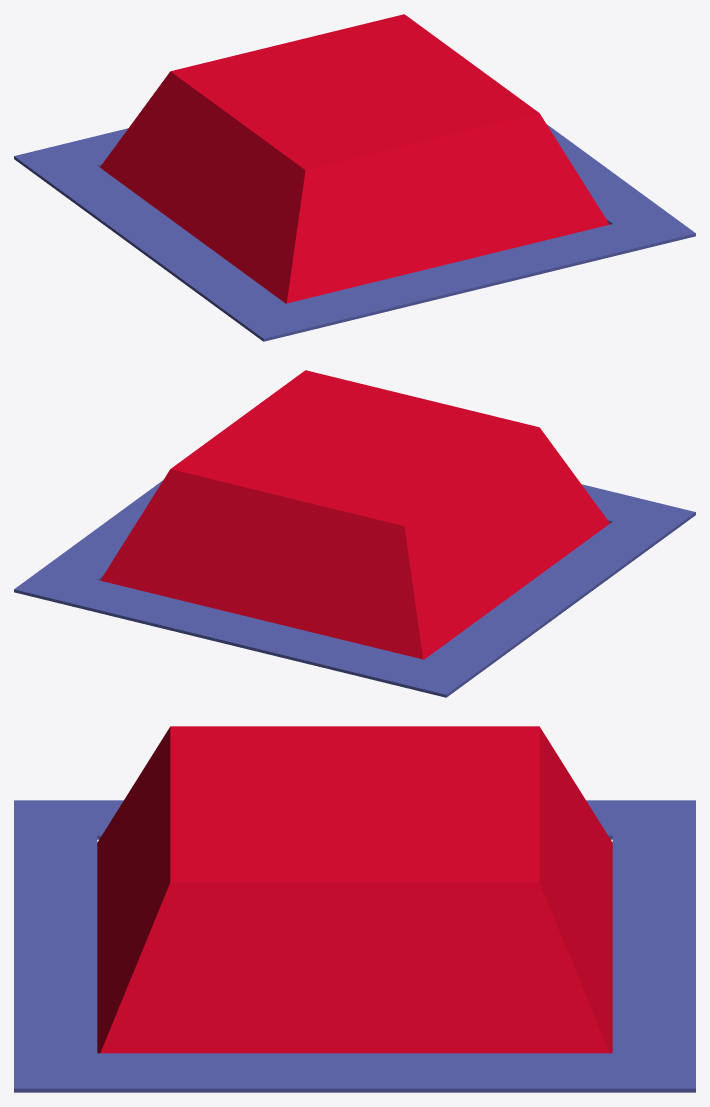
File: Button.fbx
The picture shows the model from 3 angles, top to bottom: view 1: azimuth 30°, elevation 25°; view 2: azimuth 150°, elevation 25°; view 3: azimuth 270°, elevation 25°; orthographic projection. The views are drawn at different scales.
Visible parts, largest first — view 1: Button, Button Border; view 2: Button, Button Border; view 3: Button, Button Border.
Part boxes in pixels (left/top/right/bottom): Button: left=100, top=14, right=609, bottom=303; Button Border: left=14, top=124, right=695, bottom=341; Button: left=100, top=370, right=609, bottom=659; Button Border: left=14, top=480, right=695, bottom=697; Button: left=97, top=726, right=612, bottom=1053; Button Border: left=14, top=800, right=695, bottom=1092.
Bounding box in the file's own units: 200 × 47.81 × 200.
